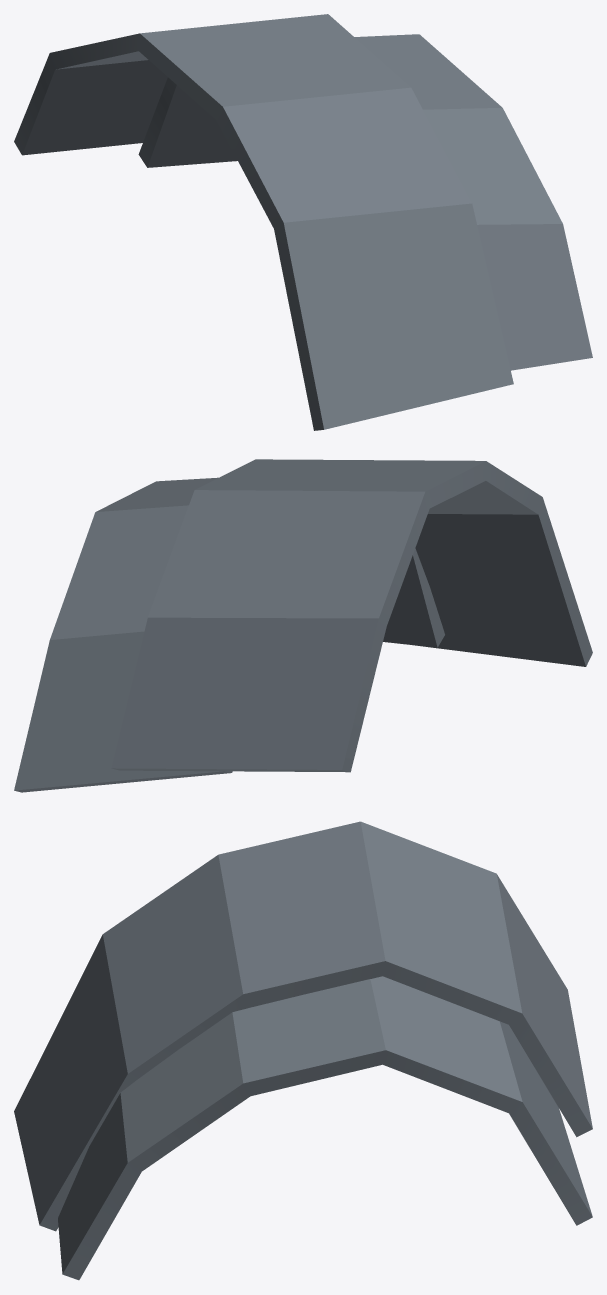
File: SM_roman_shoulder_l.fbx
3 renders of one model, top to bottom at view 1: azimuth 30°, elevation 25°; view 2: azimuth 150°, elevation 25°; view 3: azimuth 270°, elevation 25°, orthographic. The views are drawn at different scales.
Parts seen in each view (by area): view 1: roman_shoulder_l; view 2: roman_shoulder_l; view 3: roman_shoulder_l.
Part boxes in pixels (bbox=[...]): roman_shoulder_l: bbox=[14, 14, 592, 430]; roman_shoulder_l: bbox=[14, 459, 592, 792]; roman_shoulder_l: bbox=[14, 821, 592, 1280].
Bounding box in the file's own units: 19.24 × 16.49 × 28.22.
